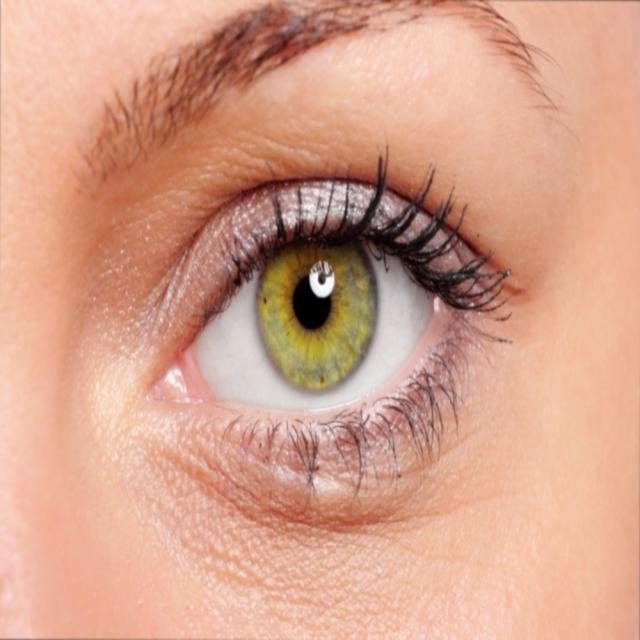Healthy-Eye: (108, 74, 518, 538)
